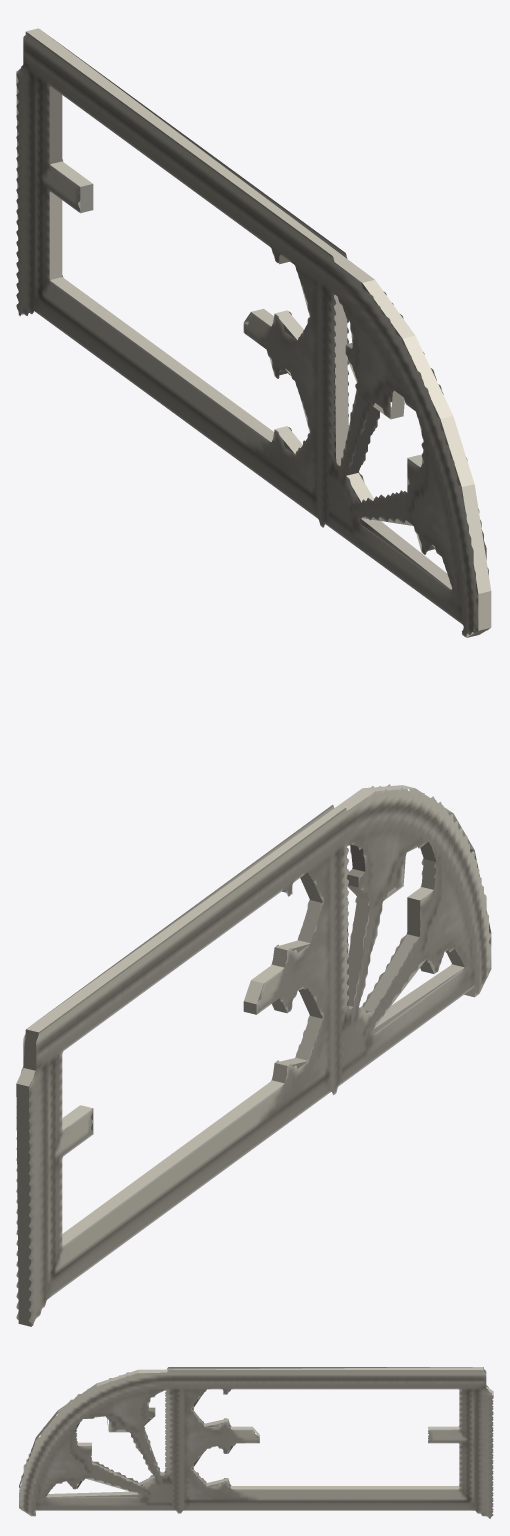
The model's file is pz_native_fixtures_windows_church_100_frame.obj.
The picture shows the model from 3 angles, top to bottom: view 1: azimuth 30°, elevation 25°; view 2: azimuth 150°, elevation 25°; view 3: azimuth 270°, elevation 25°; orthographic projection. The views are drawn at different scales.
Visible parts, largest first — view 1: pz_native_fixtures_windows_church_100_frame; view 2: pz_native_fixtures_windows_church_100_frame; view 3: pz_native_fixtures_windows_church_100_frame.
Boxes of the visible parts, left/top/right/bottom form: pz_native_fixtures_windows_church_100_frame: left=16, top=28, right=491, bottom=637; pz_native_fixtures_windows_church_100_frame: left=16, top=784, right=491, bottom=1326; pz_native_fixtures_windows_church_100_frame: left=19, top=1367, right=493, bottom=1518.
Bounding box in the file's own units: 0.04 × 0.8906 × 2.53.
Materials: 1 (1 with a texture image).
